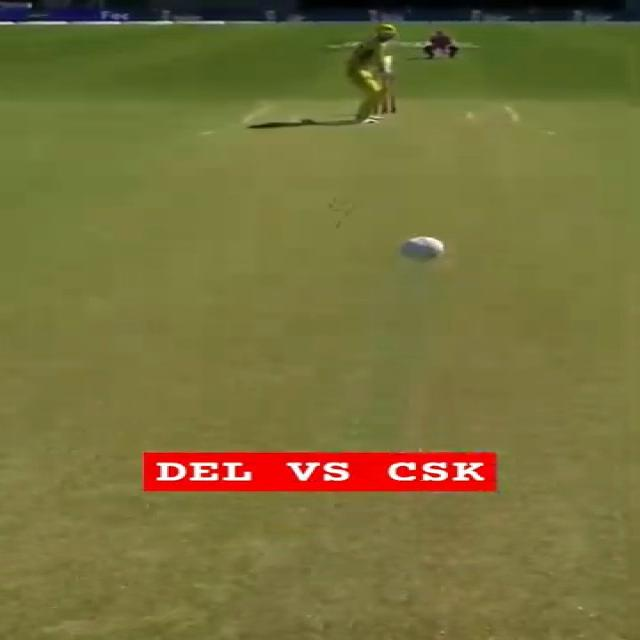ball: (398, 235, 448, 268)
